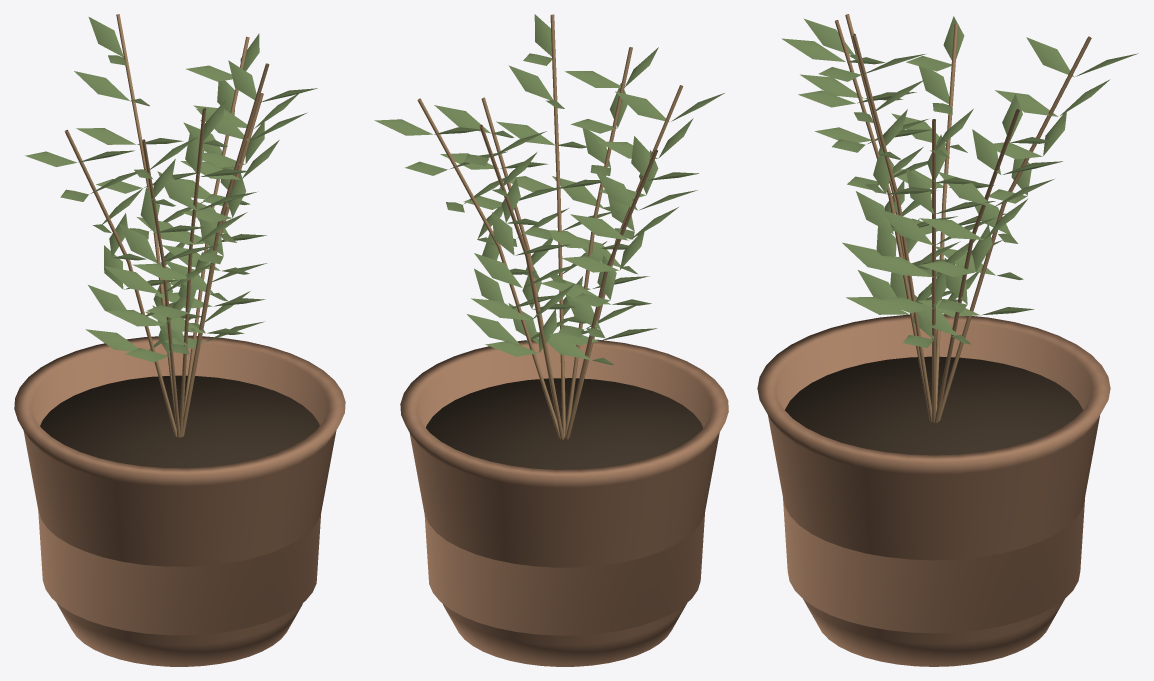
File: kitchen-herbs.glb
The picture shows the model from 3 angles, left to right: view 1: azimuth 30°, elevation 25°; view 2: azimuth 150°, elevation 25°; view 3: azimuth 270°, elevation 25°; orthographic projection. The views are drawn at different scales.
Parts seen in each view (by area): view 1: Mood stoneware clay, Mood olive leaf, Mood soil, Mood oak board; view 2: Mood stoneware clay, Mood olive leaf, Mood soil, Mood oak board; view 3: Mood stoneware clay, Mood olive leaf, Mood soil, Mood oak board.
Boxes of the visible parts, x1,y1,x2,y2 form: Mood stoneware clay: (14, 335, 345, 666); Mood olive leaf: (25, 17, 317, 362); Mood soil: (40, 375, 319, 468); Mood oak board: (64, 14, 269, 437); Mood stoneware clay: (400, 339, 728, 666); Mood olive leaf: (374, 14, 724, 365); Mood soil: (426, 378, 703, 469); Mood oak board: (417, 14, 682, 439); Mood stoneware clay: (757, 314, 1110, 666); Mood olive leaf: (781, 16, 1138, 347); Mood soil: (785, 356, 1082, 455); Mood oak board: (834, 14, 1091, 422).
Size of the model in its own units: 0.2118 by 0.3993 by 0.2272.
